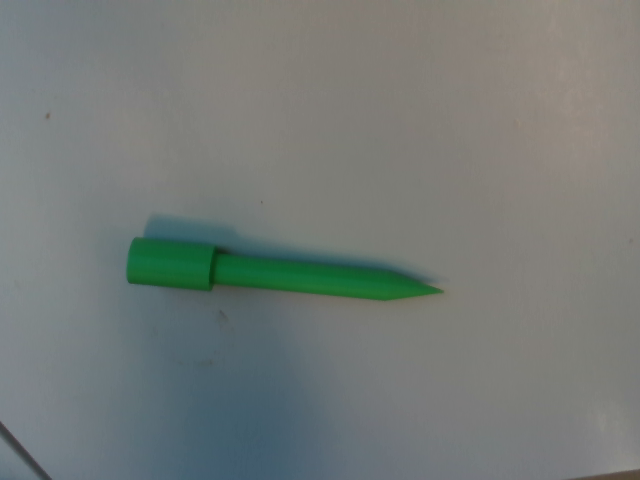Probe: (120, 230, 453, 316)
